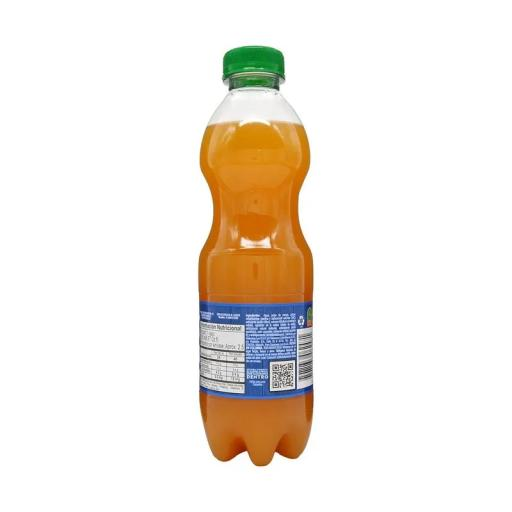JugoHM: (176, 29, 342, 472)
